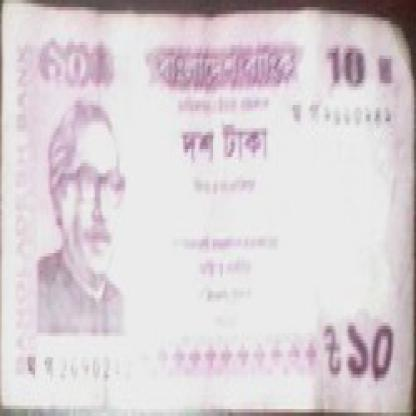Ten Taka: (343, 312, 404, 406), (40, 38, 101, 94), (326, 48, 375, 100)
